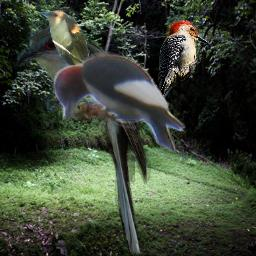Cuckoo: (13, 26, 152, 253), (37, 9, 94, 103)
Woodpecker: (49, 51, 188, 155), (158, 20, 212, 103)
